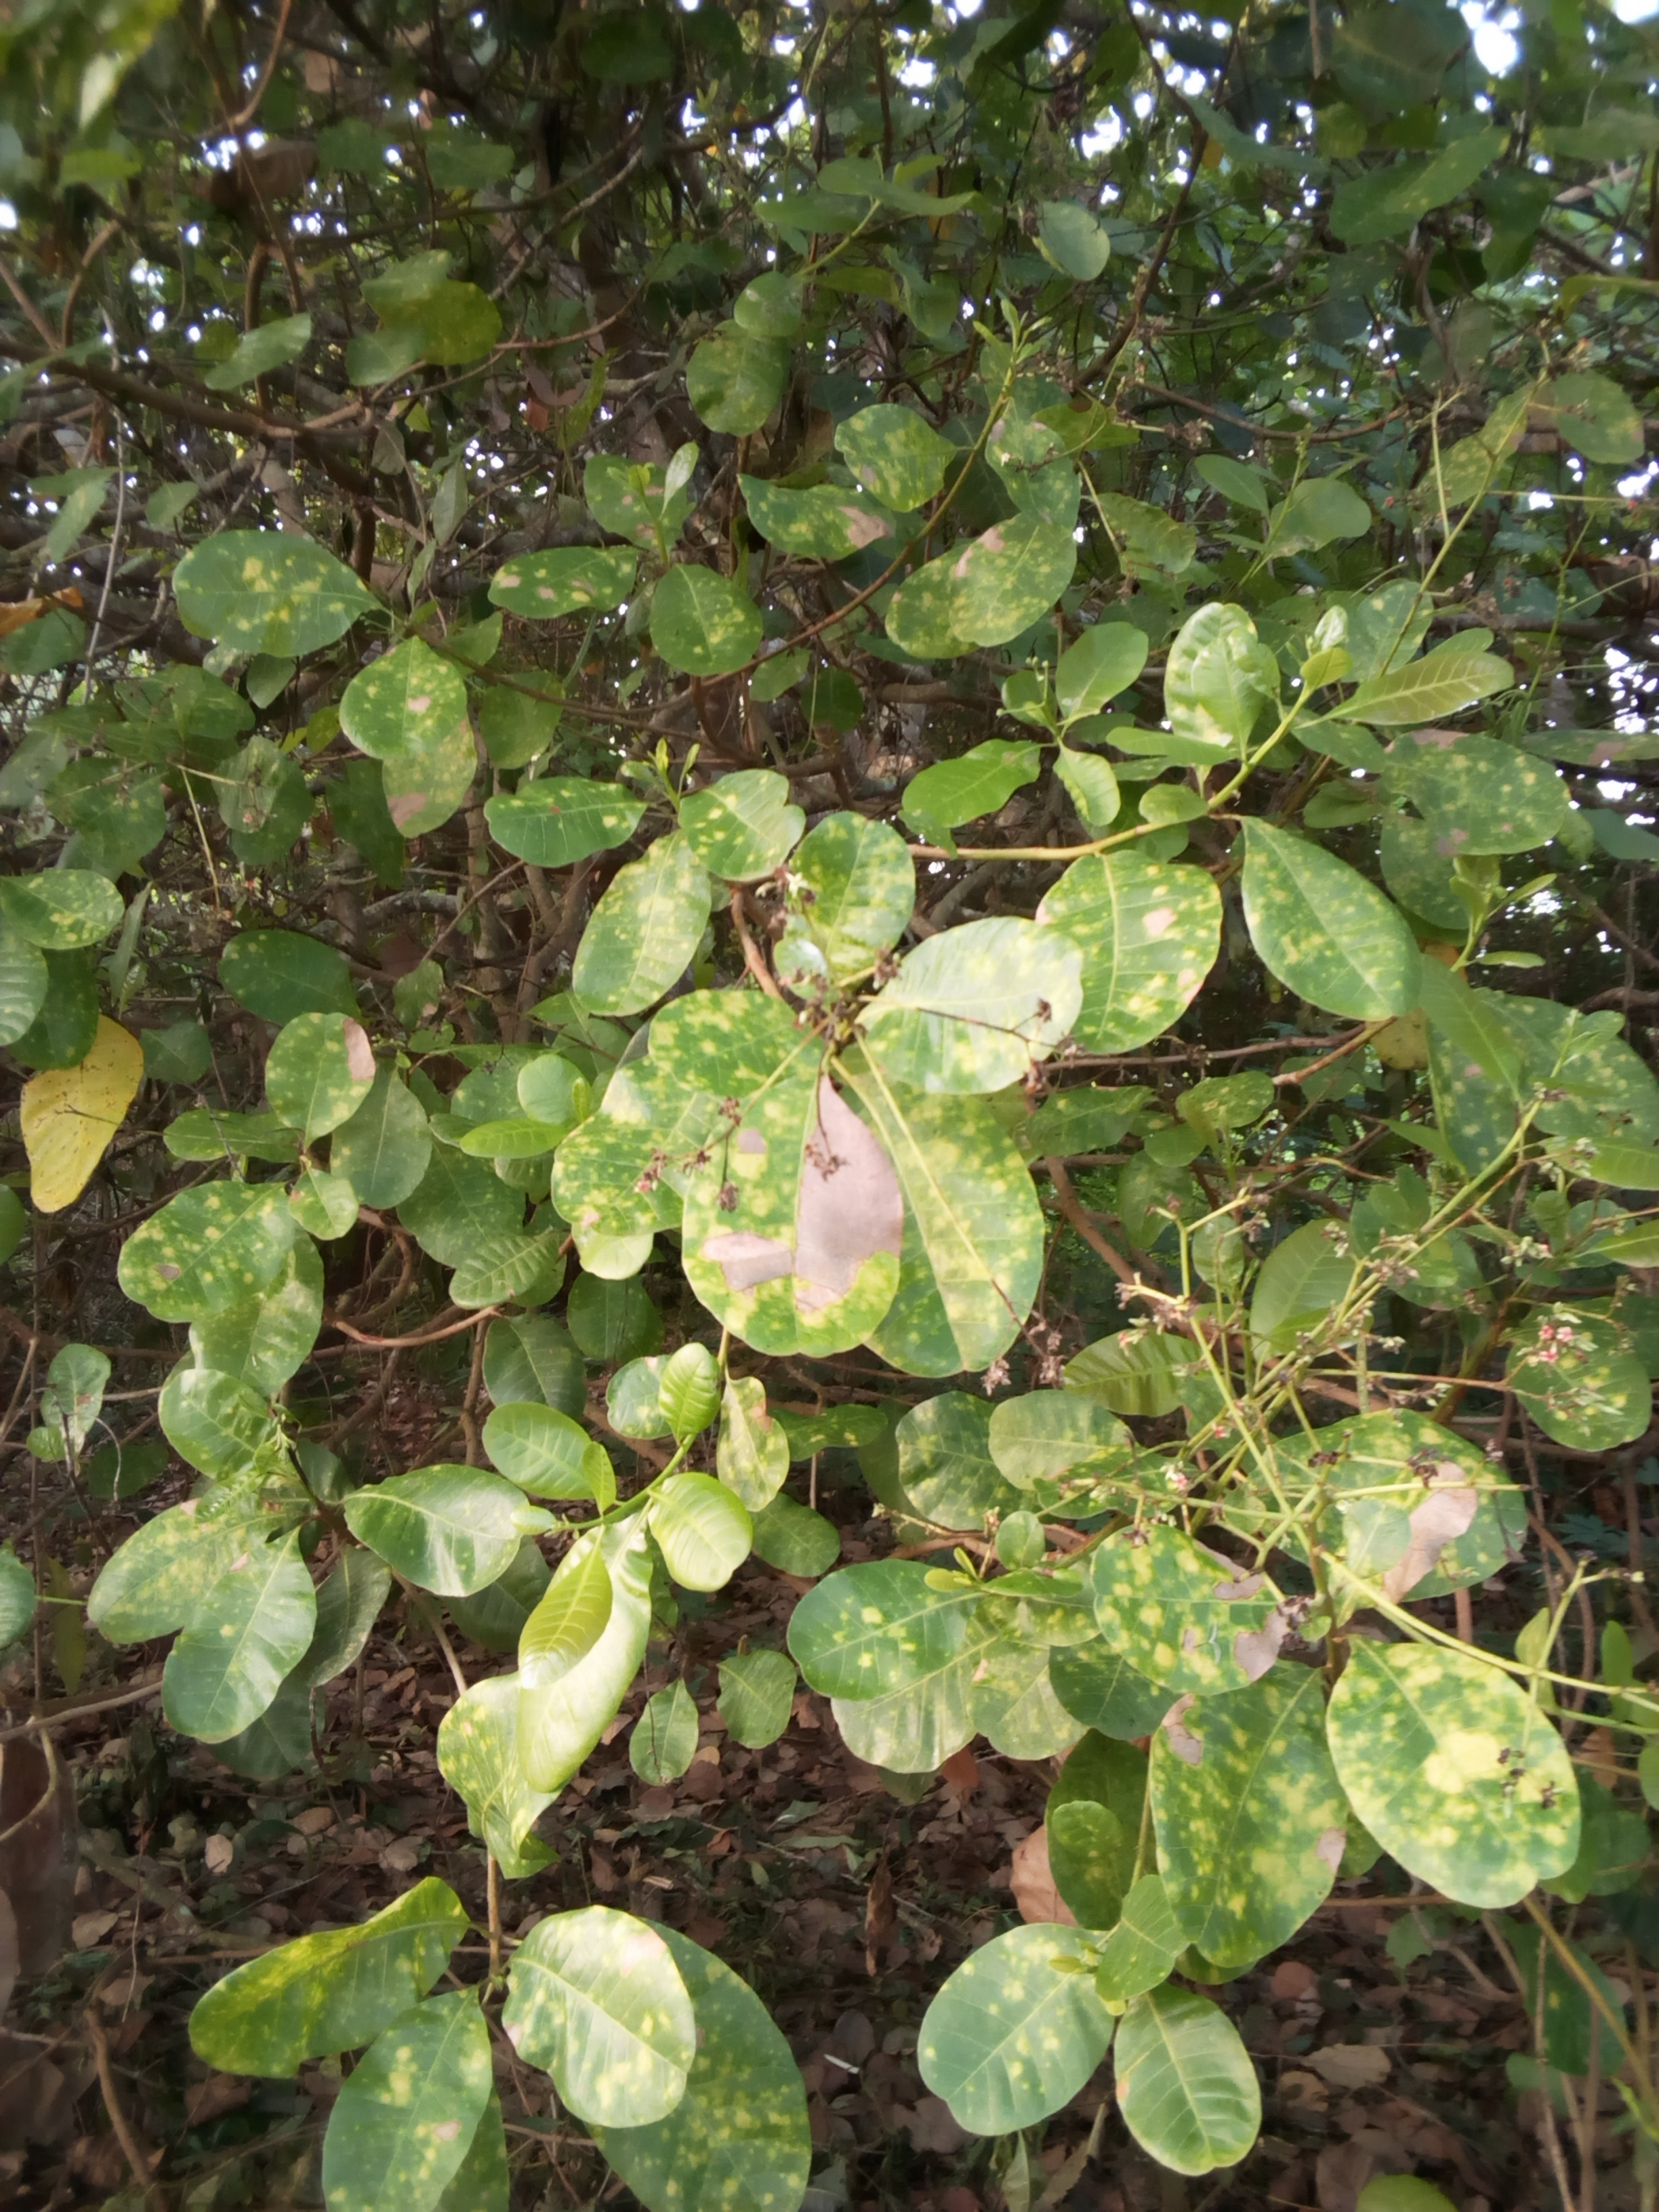Carence minérale: (1138, 1651, 1385, 1987), (554, 977, 826, 1282), (1328, 1641, 1608, 1923), (861, 1036, 1066, 1402), (80, 1489, 317, 1743), (1216, 813, 1443, 1038), (1080, 1515, 1317, 1716), (1364, 709, 1595, 902), (927, 493, 1134, 662), (122, 1163, 321, 1339), (179, 507, 373, 669), (554, 428, 728, 568), (629, 568, 772, 712), (1516, 361, 1659, 474), (1399, 425, 1525, 545)
